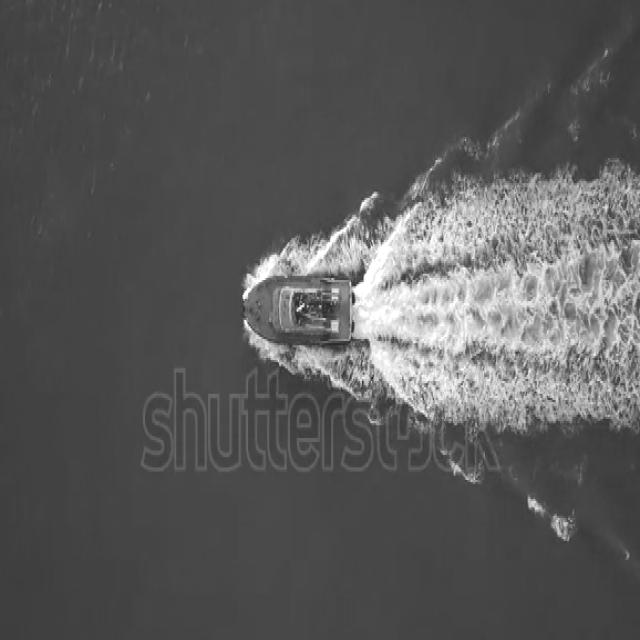ship: (239, 270, 358, 348)
